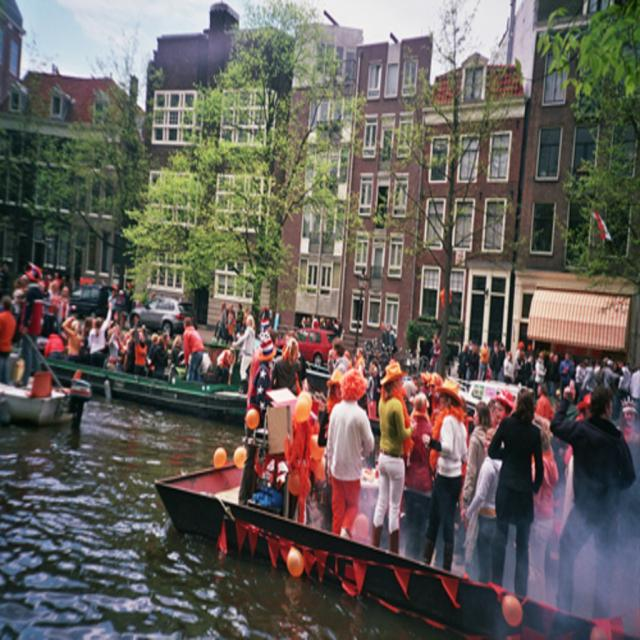Boat: (152, 423, 639, 638), (38, 344, 248, 415), (1, 346, 95, 438)
